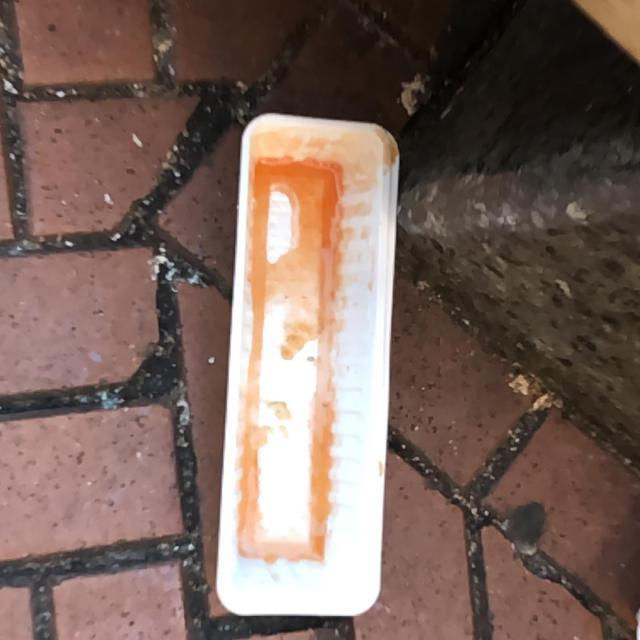Plastic: (212, 109, 403, 622)
